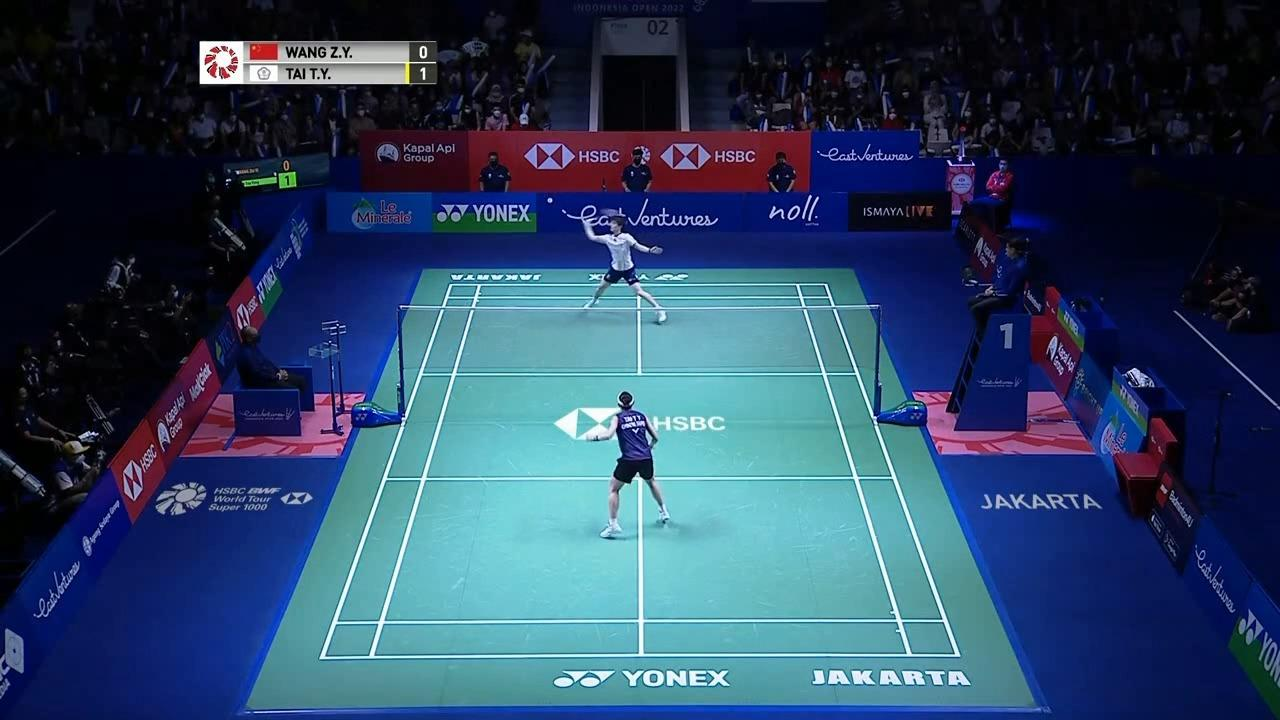shuttle: (546, 198, 555, 204)
